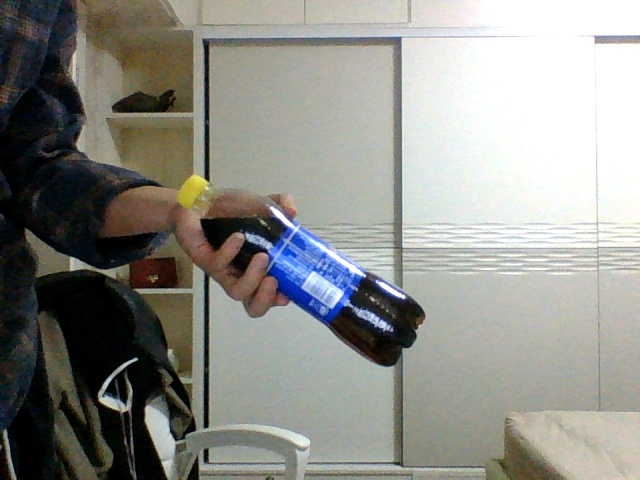Cola: (176, 173, 425, 365)
